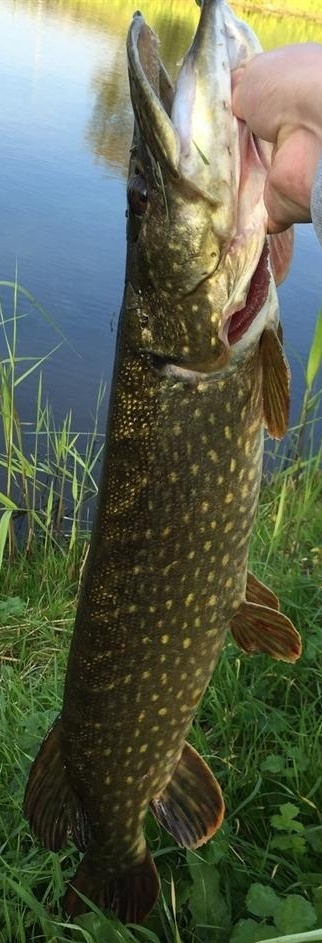Esox lucius: (20, 1, 302, 923)
